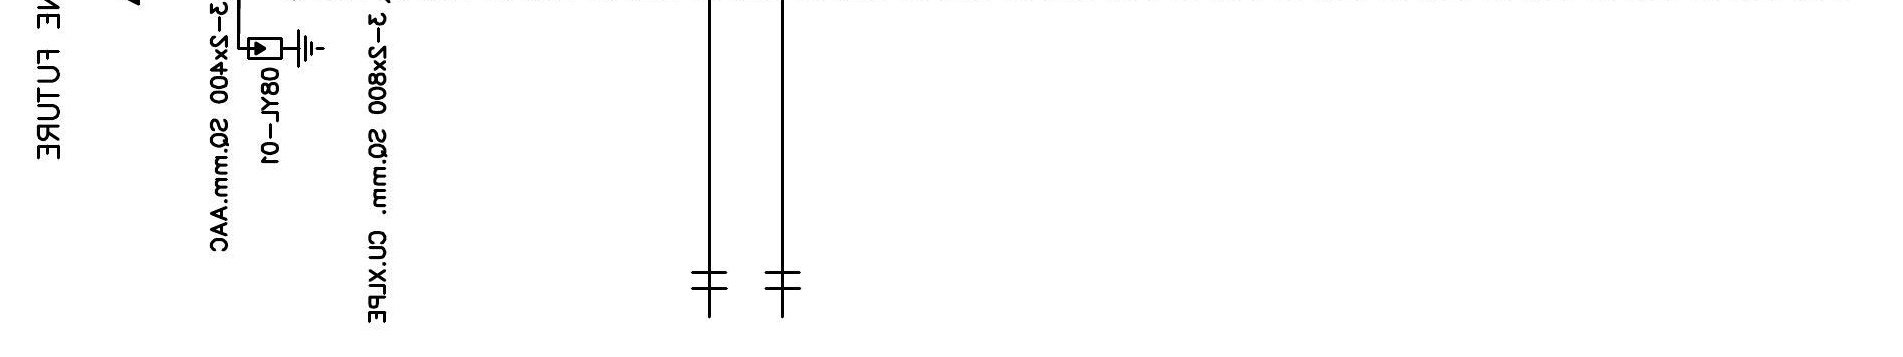115_buffer: (691, 271, 728, 290), (765, 271, 801, 290)
115_la: (245, 28, 326, 69)
